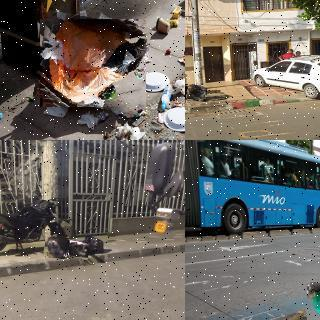Garbage: (37, 15, 149, 111), (44, 236, 70, 259), (305, 284, 320, 320), (82, 237, 107, 255), (187, 85, 206, 104), (68, 243, 89, 260)
